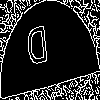D: (25, 25, 50, 75)
